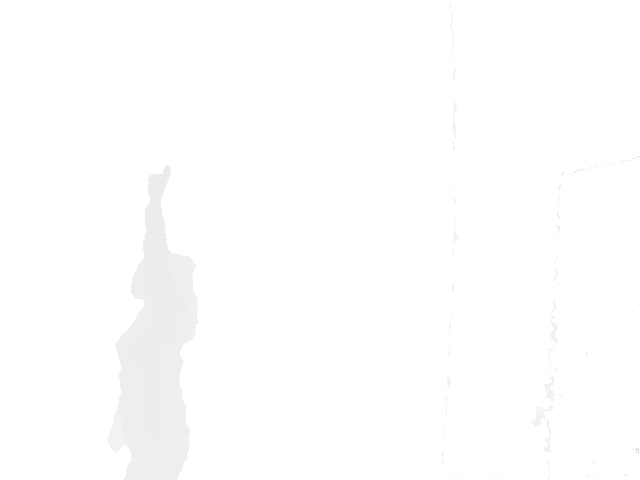hand: (146, 164, 172, 200)
head: (130, 252, 198, 305)
person: (107, 164, 200, 480)
